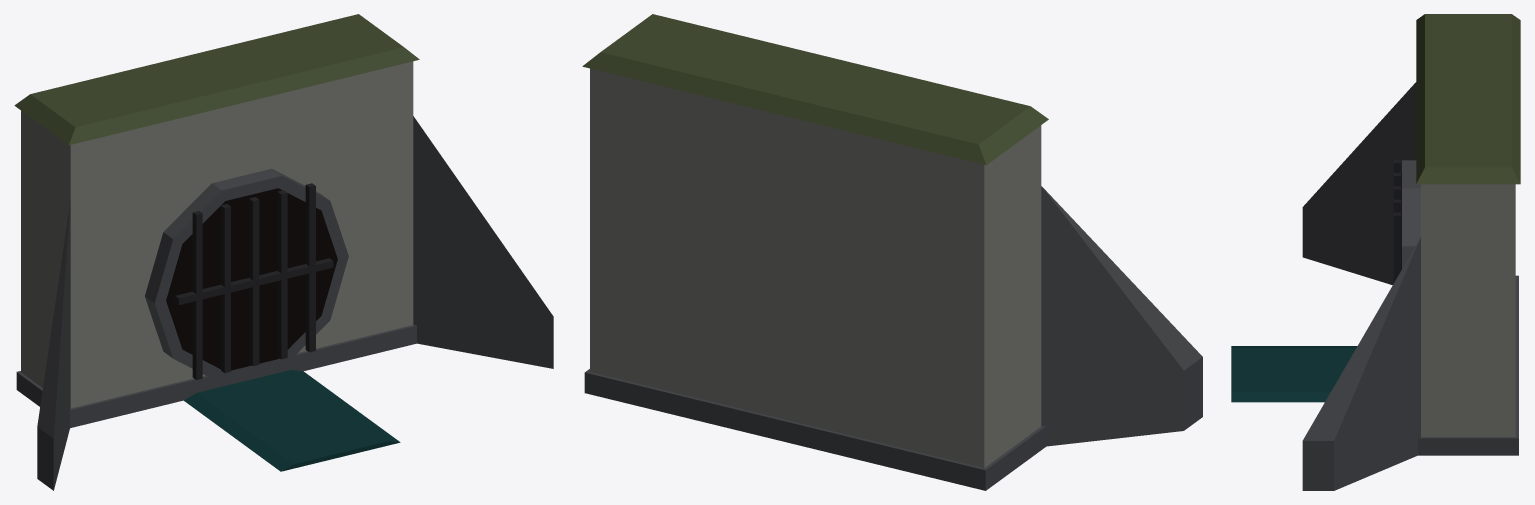
The model's file is drowned_outfall.glb.
The picture shows the model from 3 angles, left to right: view 1: azimuth 30°, elevation 25°; view 2: azimuth 150°, elevation 25°; view 3: azimuth 270°, elevation 25°; orthographic projection. The views are drawn at different scales.
Parts seen in each view (by area): view 1: drowned_outfall; view 2: drowned_outfall; view 3: drowned_outfall.
Part boxes in pixels (x1,y1,x2,y2): drowned_outfall: (14, 14, 553, 490); drowned_outfall: (582, 14, 1202, 490); drowned_outfall: (1231, 14, 1520, 490).
Bounding box in the file's own units: 3.5 × 1.98 × 1.83.
